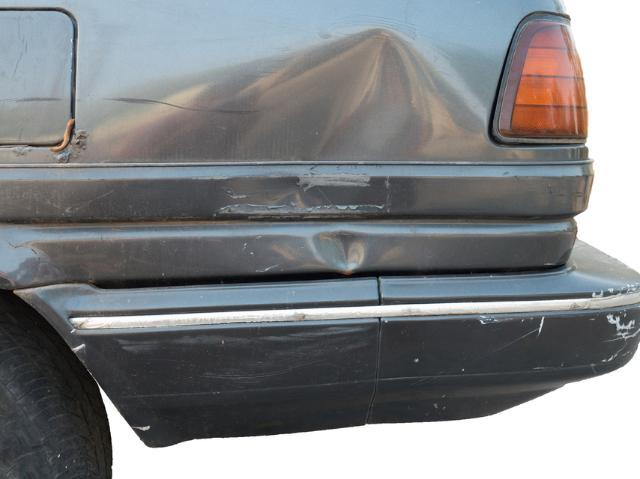Fender: (149, 9, 508, 266)
